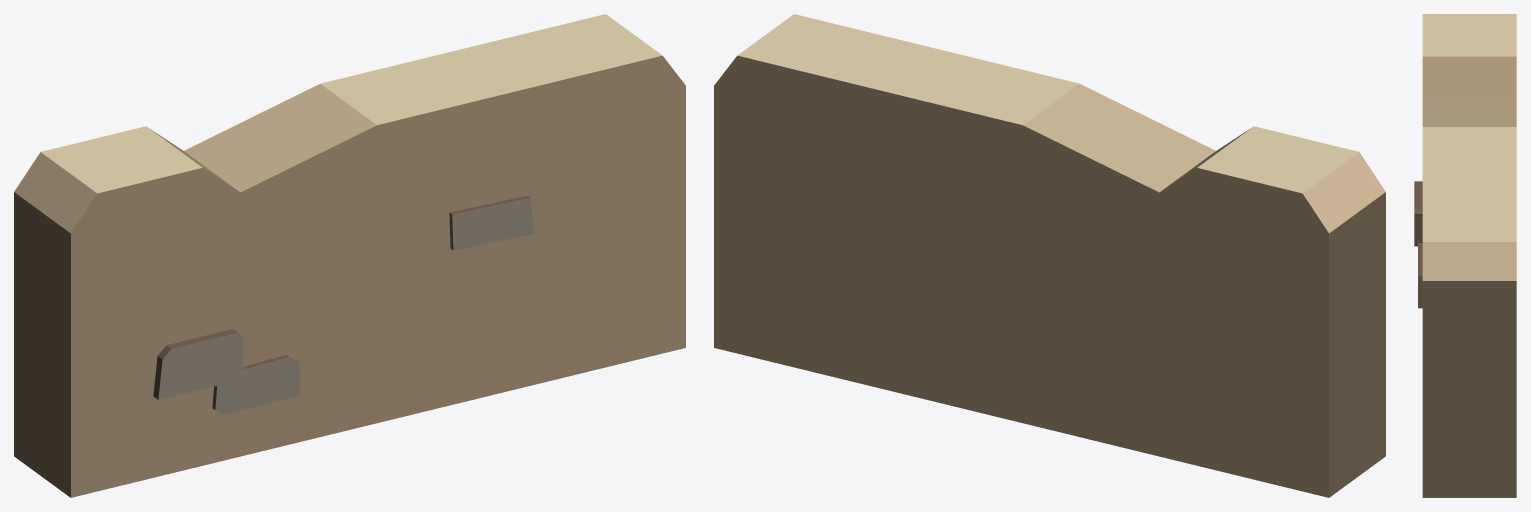
Rendered from TB_D_Bd_Fence_Dirt_A.FBX.
3 views of the same model, side by side, from view 1: azimuth 30°, elevation 25°; view 2: azimuth 150°, elevation 25°; view 3: azimuth 270°, elevation 25° (orthographic). The views are drawn at different scales.
Parts seen in each view (by area): view 1: TB_D_Bd_Fence_Dirt_A; view 2: TB_D_Bd_Fence_Dirt_A; view 3: TB_D_Bd_Fence_Dirt_A.
Boxes of the visible parts, bbox=[...] form: TB_D_Bd_Fence_Dirt_A: bbox=[14, 14, 685, 497]; TB_D_Bd_Fence_Dirt_A: bbox=[714, 14, 1385, 497]; TB_D_Bd_Fence_Dirt_A: bbox=[1414, 14, 1516, 497].
Bounding box in the file's own units: 2.5 × 1.16 × 0.4358.
